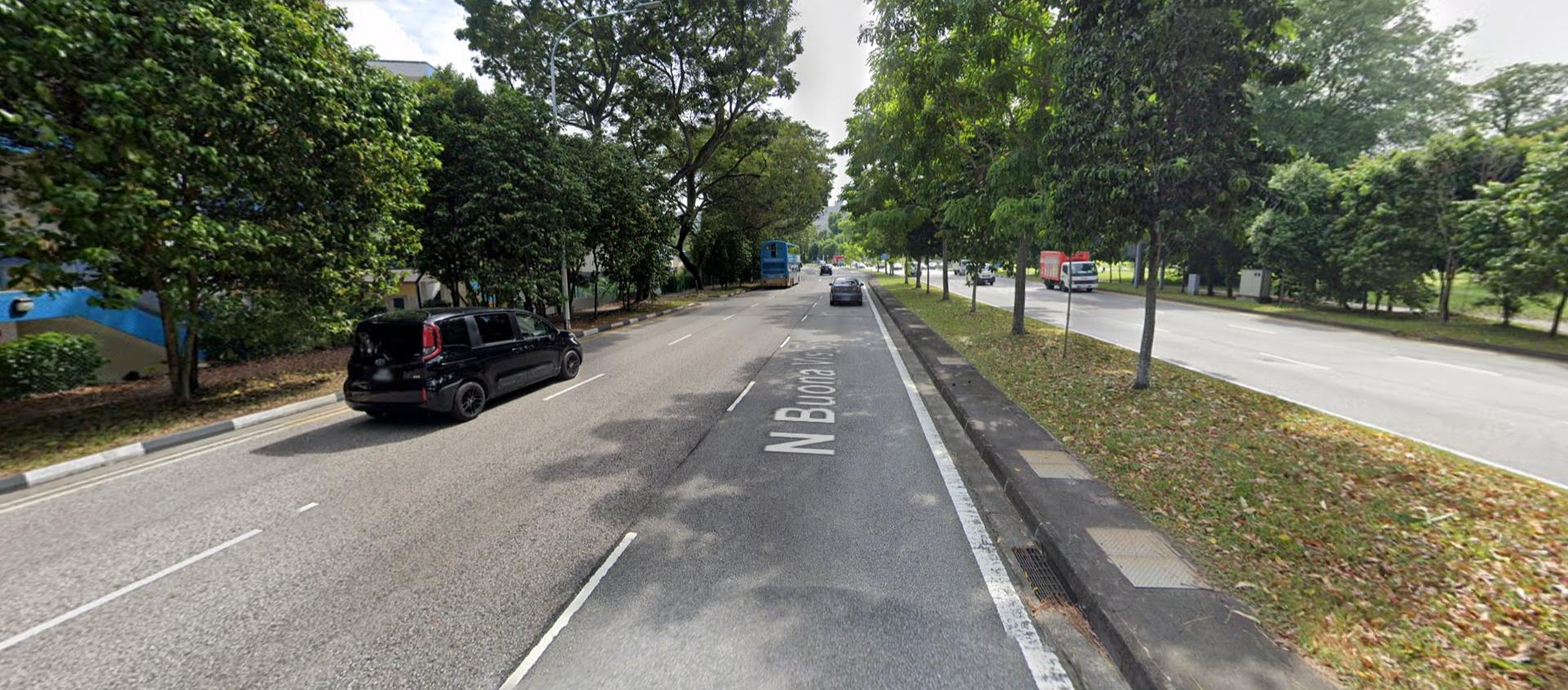normal: (1013, 548, 1078, 610)
